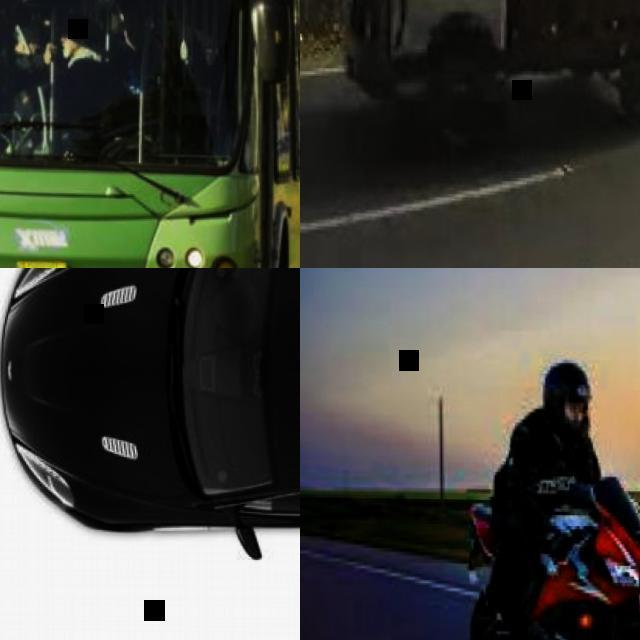car: (465, 360, 638, 639)
